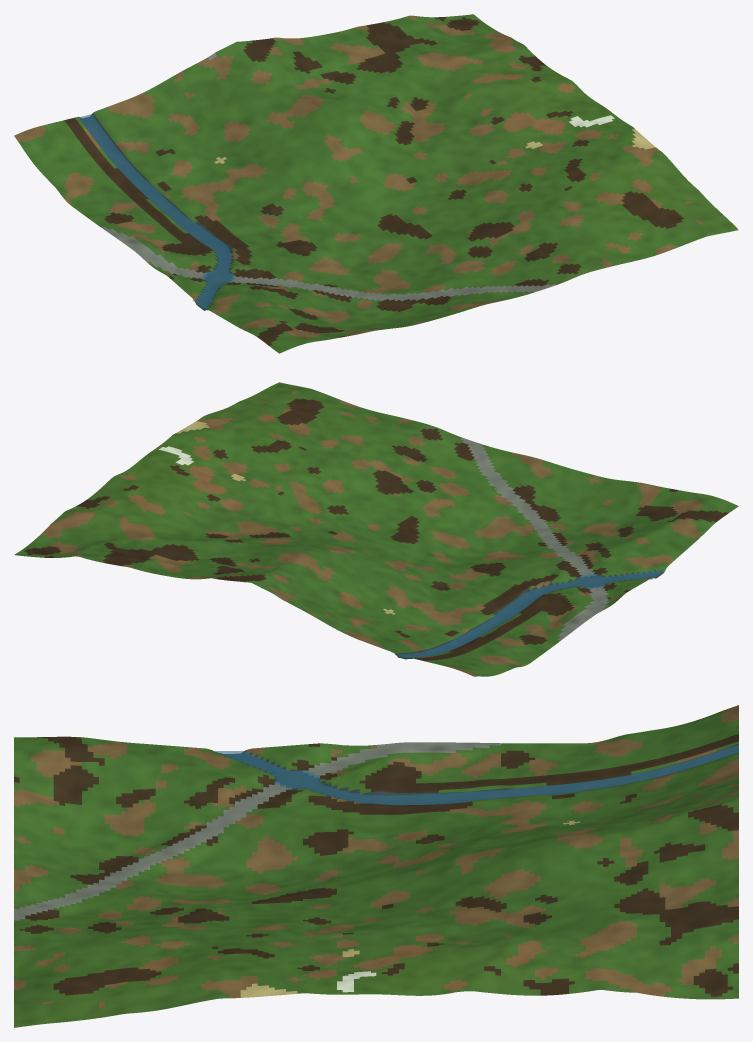
File: chunk_2_3.glb
The picture shows the model from 3 angles, top to bottom: view 1: azimuth 30°, elevation 25°; view 2: azimuth 150°, elevation 25°; view 3: azimuth 270°, elevation 25°; orthographic projection. The views are drawn at different scales.
Visible parts, largest first — view 1: Surface_Grass, Surface_Dirt, Surface_Mud, Surface_Water, Water, Surface_Gravel; view 2: Surface_Grass, Surface_Dirt, Surface_Mud, Surface_Gravel, Surface_Water, Water; view 3: Surface_Grass, Surface_Dirt, Surface_Mud, Surface_Gravel, Surface_Water, Water, Surface_Sand.
Part boxes in pixels (box(x1,y1,x2,y2)): Surface_Grass: box(18, 14, 738, 353); Surface_Dirt: box(14, 15, 702, 338); Surface_Mud: box(64, 17, 683, 345); Surface_Water: box(79, 113, 234, 310); Water: box(80, 114, 236, 310); Surface_Gravel: box(101, 53, 555, 301); Surface_Grass: box(14, 382, 738, 676); Surface_Dirt: box(41, 391, 702, 676); Surface_Mud: box(24, 398, 728, 660); Surface_Gravel: box(273, 437, 609, 640); Surface_Water: box(395, 569, 663, 659); Water: box(397, 569, 664, 657); Surface_Grass: box(14, 709, 738, 1027); Surface_Dirt: box(14, 705, 738, 1007); Surface_Mud: box(14, 734, 738, 996); Surface_Gravel: box(14, 742, 738, 920); Surface_Water: box(219, 743, 738, 804); Water: box(214, 745, 738, 805); Surface_Sand: box(240, 820, 580, 997).
Size of the model in its own units: 256 by 44.93 by 256.
